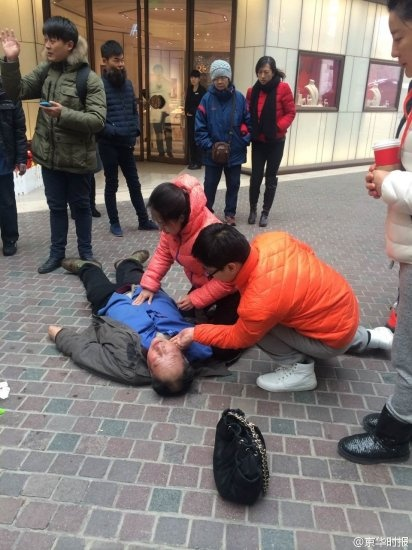falling: (37, 243, 212, 404)
